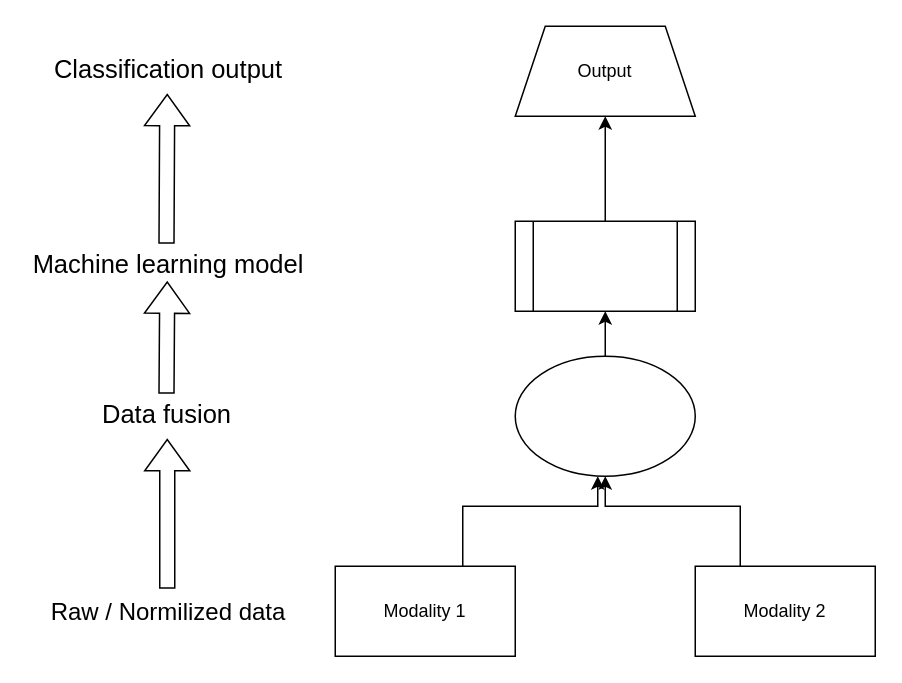
Image size: 902x683. Some labels were removed from this diagram. The shapes that lost their labels are listed below. From the top down, each one's centre as x and y in pixels, then its label:
the point at 604,265: Model
the point at 604,415: Fused vector
